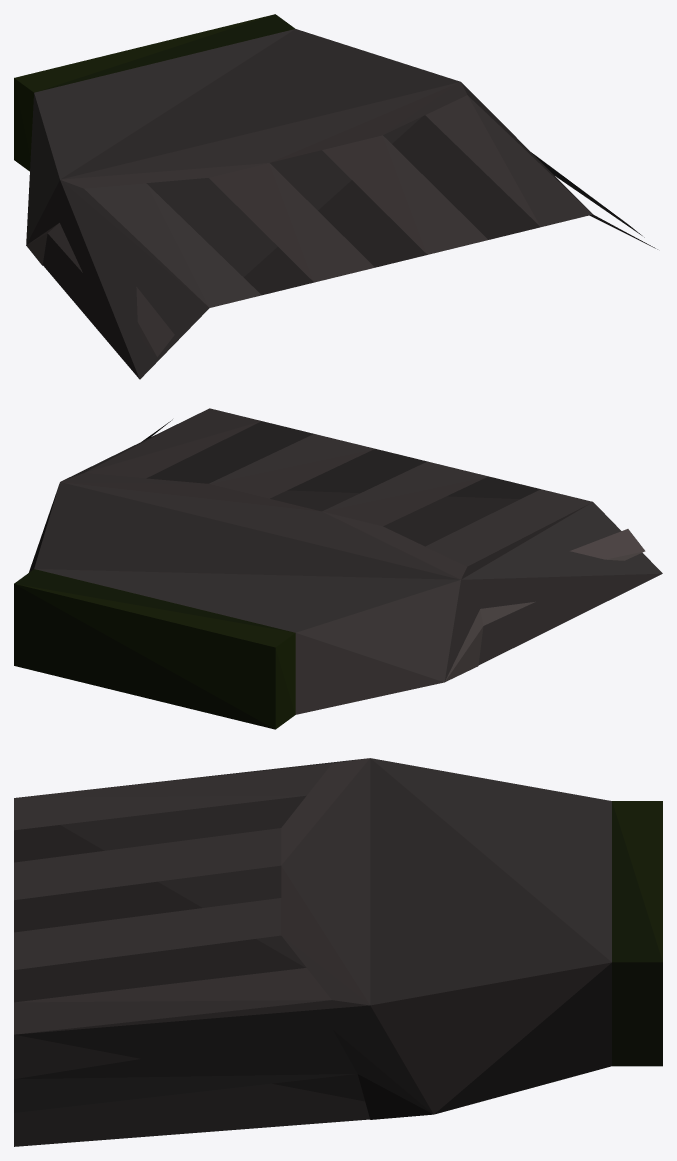
Rendered from iron-plateskirt.obj.
3 views of the same model, one above another, from view 1: azimuth 30°, elevation 25°; view 2: azimuth 150°, elevation 25°; view 3: azimuth 270°, elevation 25° (orthographic). The views are drawn at different scales.
Visible parts, largest first — view 1: Item Iron plateskirt 2026-09-24_18-11-15; view 2: Item Iron plateskirt 2026-09-24_18-11-15; view 3: Item Iron plateskirt 2026-09-24_18-11-15.
Boxes of the visible parts, x1,y1,x2,y2 form: Item Iron plateskirt 2026-09-24_18-11-15: (14, 14, 657, 379); Item Iron plateskirt 2026-09-24_18-11-15: (14, 408, 662, 729); Item Iron plateskirt 2026-09-24_18-11-15: (14, 758, 662, 1146).
Size of the model in its own units: 60 by 9 by 51.
